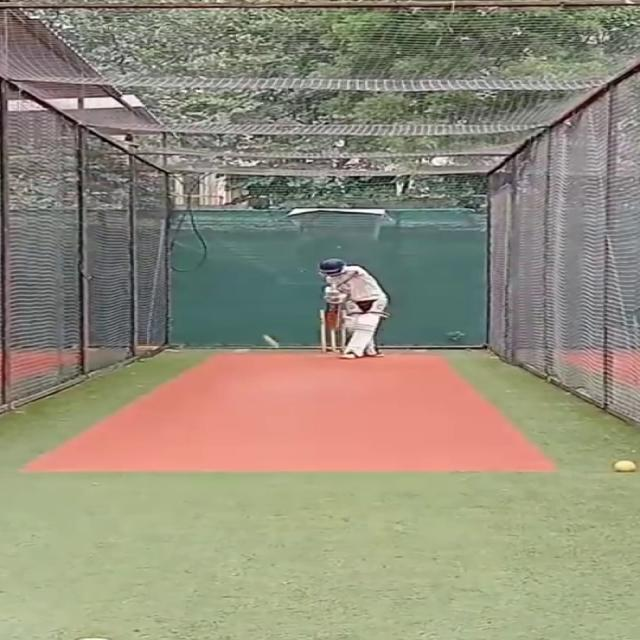ball: (612, 457, 638, 475)
stump: (316, 309, 348, 351)
